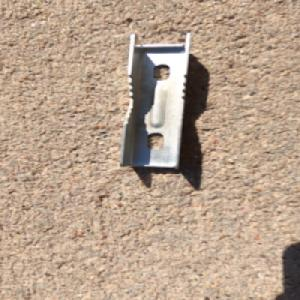ClampPart: (116, 30, 195, 170)
